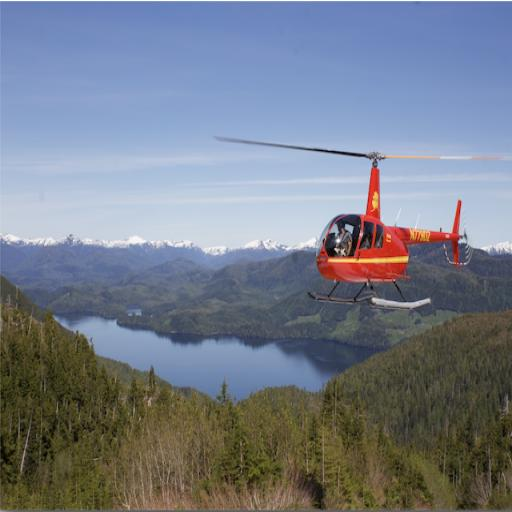helicopter: (216, 135, 512, 309)
